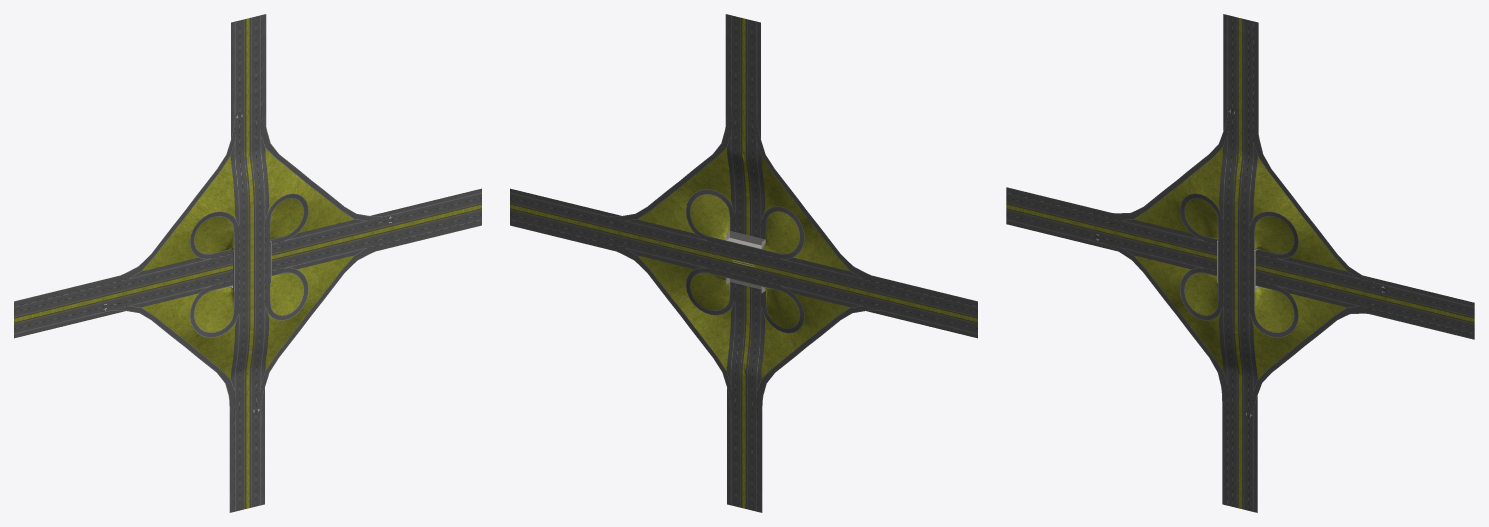
The model's file is cloverleaf.obj.
3 renders of one model, left to right at view 1: azimuth 30°, elevation 25°; view 2: azimuth 150°, elevation 25°; view 3: azimuth 330°, elevation 25°, orthographic.
Visible parts, largest first — view 1: CloverLeaf; view 2: CloverLeaf; view 3: CloverLeaf.
Boxes of the visible parts, bbox=[...] form: CloverLeaf: bbox=[14, 14, 481, 512]; CloverLeaf: bbox=[510, 14, 977, 512]; CloverLeaf: bbox=[1006, 14, 1474, 512].
Bounding box in the file's own units: 35.56 × 35.59 × 0.674.
